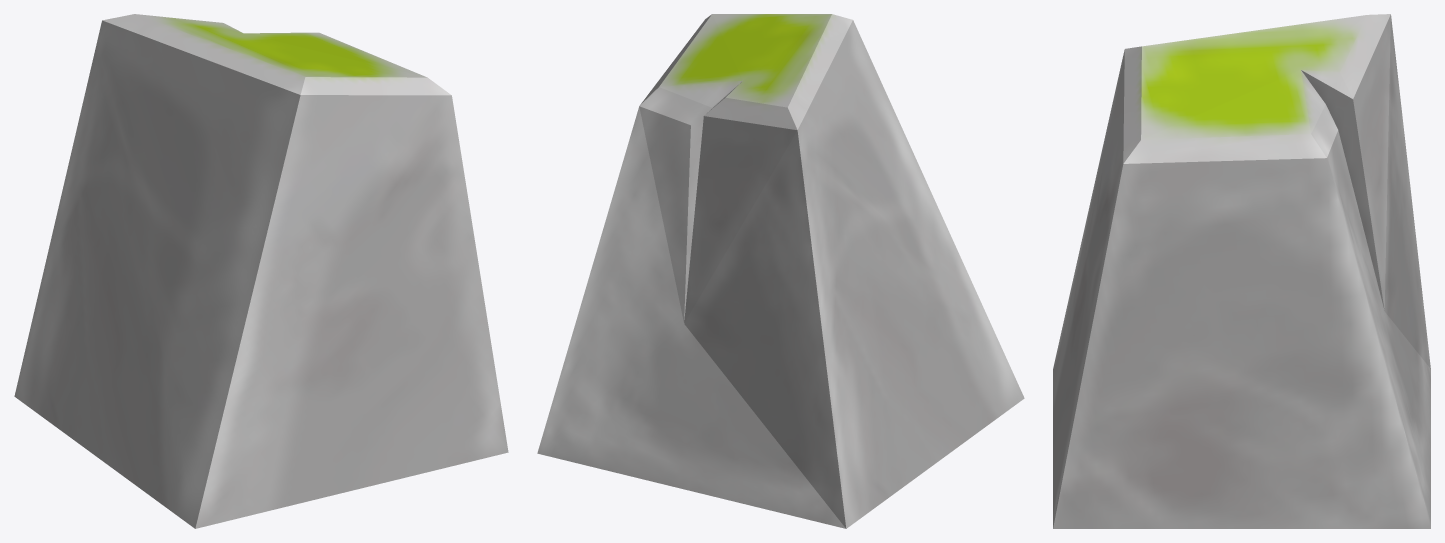
Rendered from landblocks1.fbx.
The picture shows the model from 3 angles, left to right: view 1: azimuth 30°, elevation 25°; view 2: azimuth 150°, elevation 25°; view 3: azimuth 270°, elevation 25°; orthographic projection. The views are drawn at different scales.
Parts seen in each view (by area): view 1: landblocks1; view 2: landblocks1; view 3: landblocks1.
Part boxes in pixels (left/top/right/bottom): landblocks1: left=14, top=14, right=508, bottom=528; landblocks1: left=537, top=14, right=1024, bottom=528; landblocks1: left=1053, top=14, right=1430, bottom=528.
Bounding box in the file's own units: 200 × 234 × 200.
